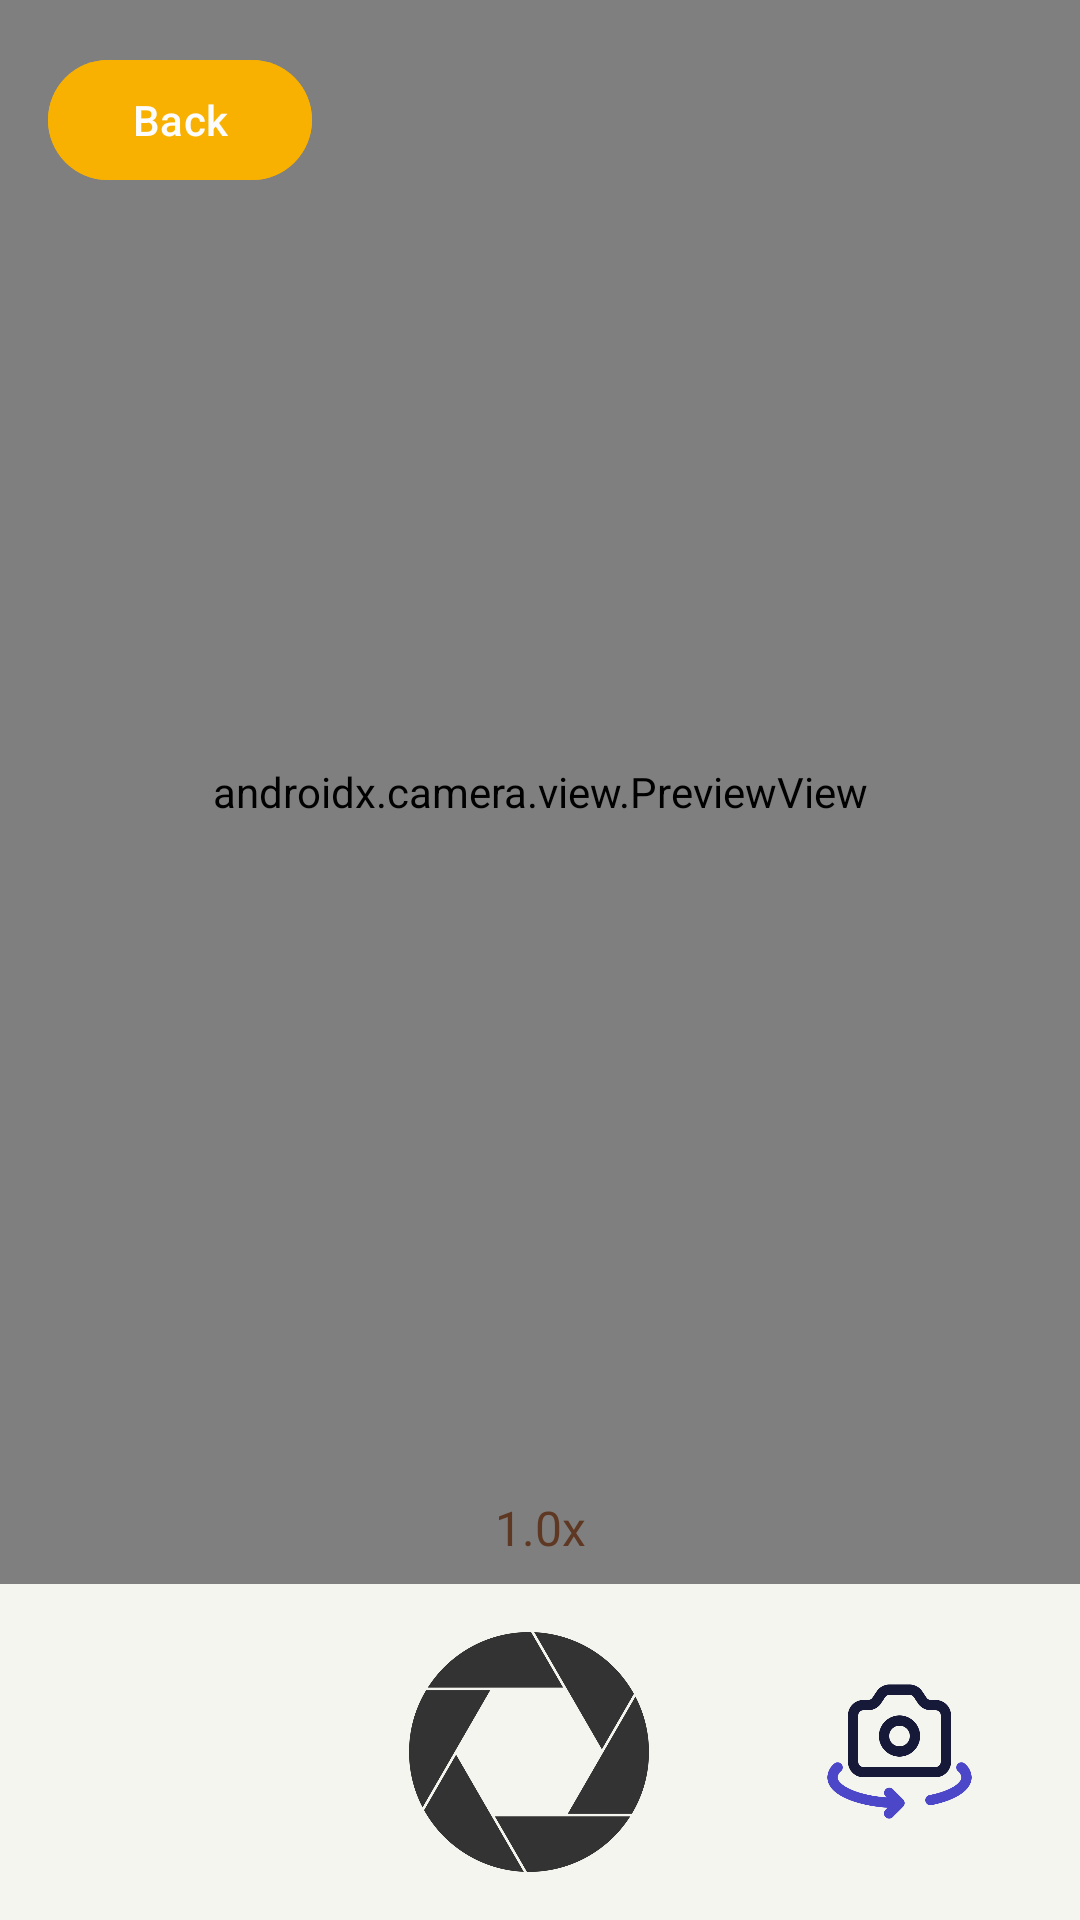

Locate icon controls on the screen. Image size 1080px×1920px, boxes as Rect(x1, y1, x2, y2).
Capture: Rect(409, 1632, 649, 1872)
Flip Camera: Rect(827, 1684, 972, 1819)
